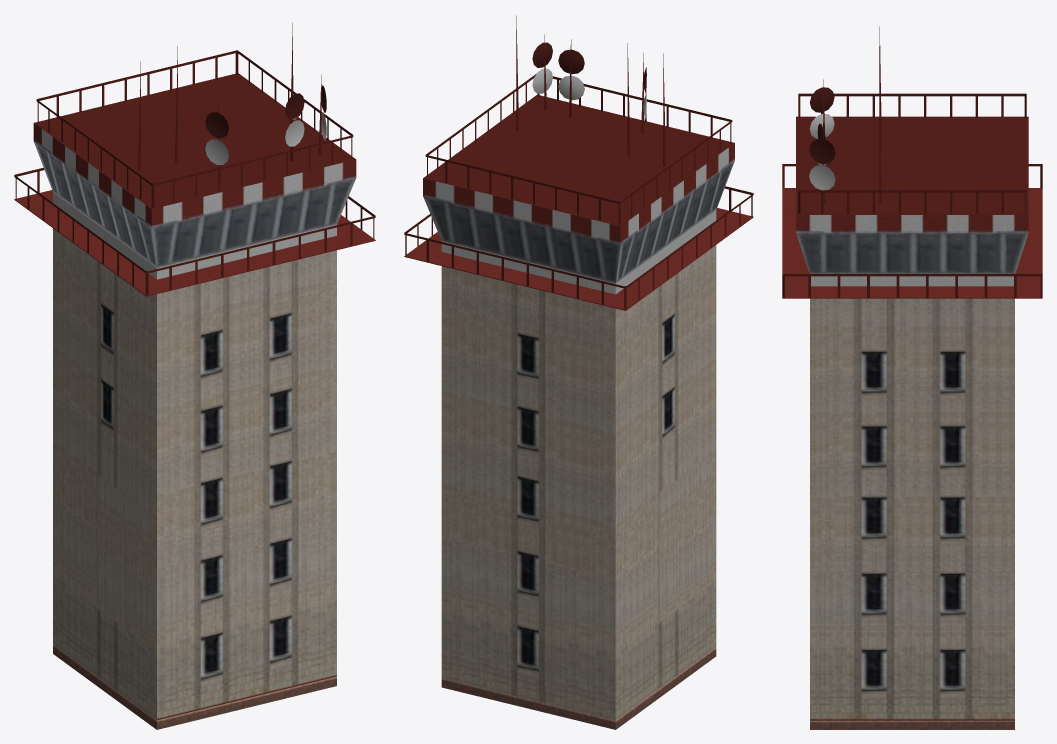
Rendered from air tower.fbx.
The picture shows the model from 3 angles, left to right: view 1: azimuth 30°, elevation 25°; view 2: azimuth 150°, elevation 25°; view 3: azimuth 270°, elevation 25°; orthographic projection. The views are drawn at different scales.
Visible parts, largest first — view 1: model_6_Mesh; view 2: model_6_Mesh; view 3: model_6_Mesh.
Part boxes in pixels (x1,y1,x2,y2): model_6_Mesh: [14, 23, 375, 729]; model_6_Mesh: [404, 15, 753, 729]; model_6_Mesh: [782, 26, 1042, 729].
Bounding box in the file's own units: 1628 × 4403 × 1628.
